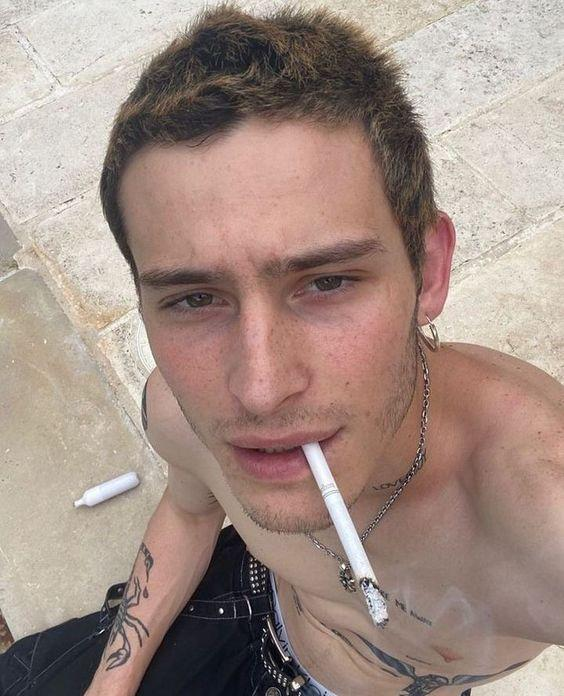cigarette: (300, 439, 390, 629)
